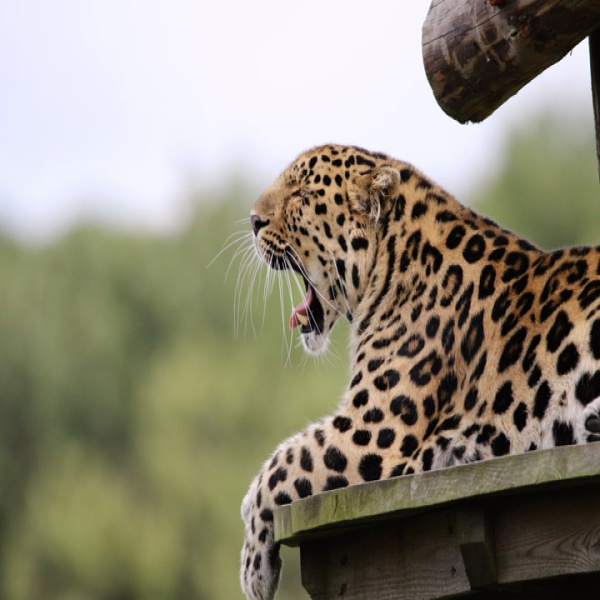Leopard: (234, 137, 598, 600)
